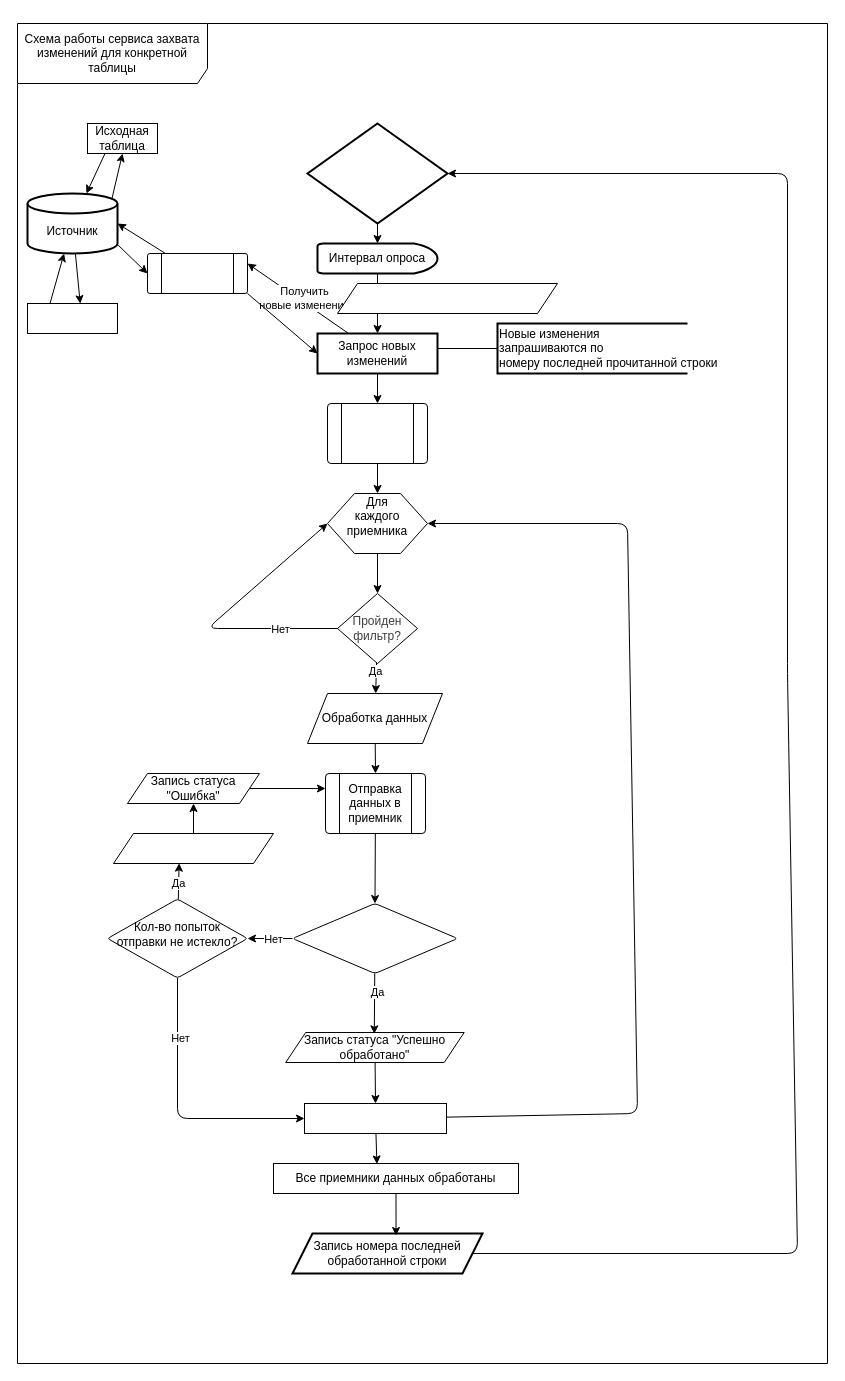
Image size: 845x1381. Some labels were removed from this diagram. Here are the shapes that lost their labels. From the top down, the centre of each, then its label:
the point at 377,173: Сервис заданий по расписанию
the point at 197,273: Провайдер
the point at 72,318: Служебная таблица CDC
the point at 447,298: Получение идентификатора последней обработанной строки
the point at 377,433: Поиск связанных приемников данных
the point at 193,848: ПопыткиОтправки++
the point at 375,938: Данные успешно приняты получателем?
the point at 375,1118: Отправка данных в следующий приемник
